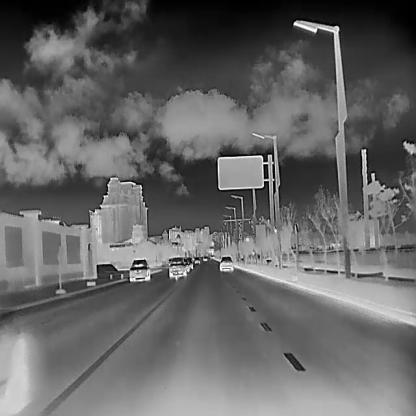car: (128, 259, 150, 281), (169, 255, 187, 276), (218, 255, 233, 271), (184, 256, 193, 268), (193, 255, 200, 263), (202, 254, 208, 260), (209, 254, 213, 259)
